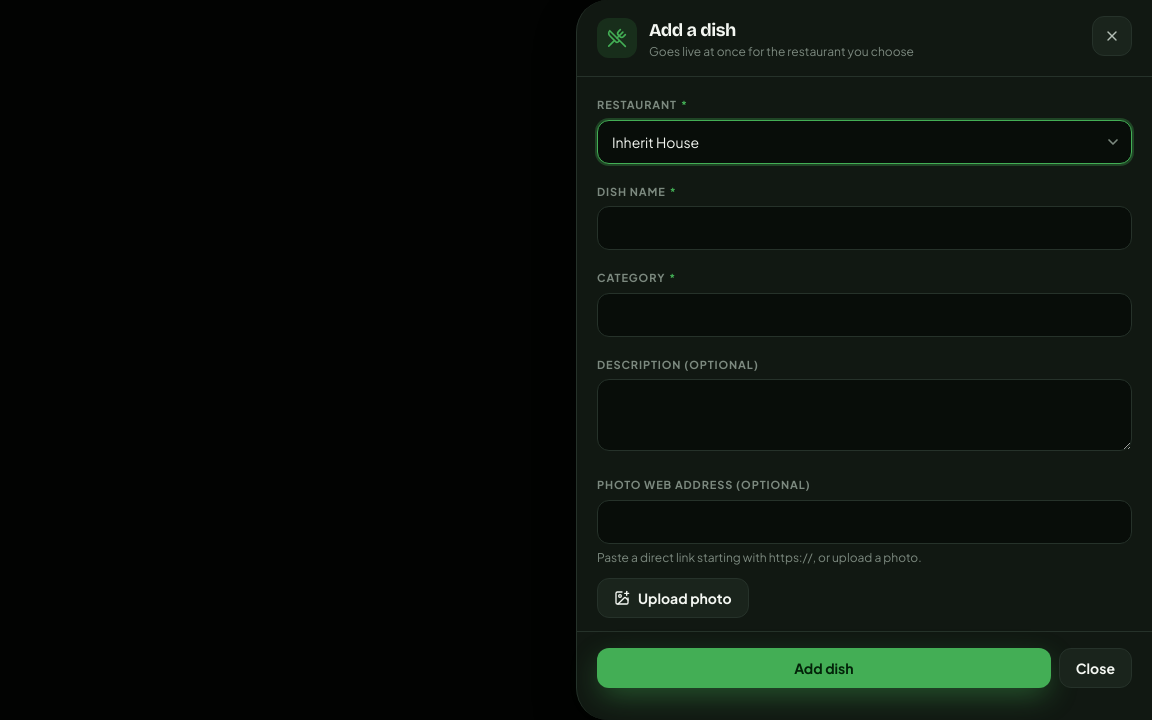
Test: create: which price box? › restaurant without its own rule: asks Settings once and follows a default of Cut from sale
Select "Inherit House" in the dropdown with id "dish-vendor" at (864, 142), box top-left (597, 120), bottom-right (1132, 164)
(page scrolled)
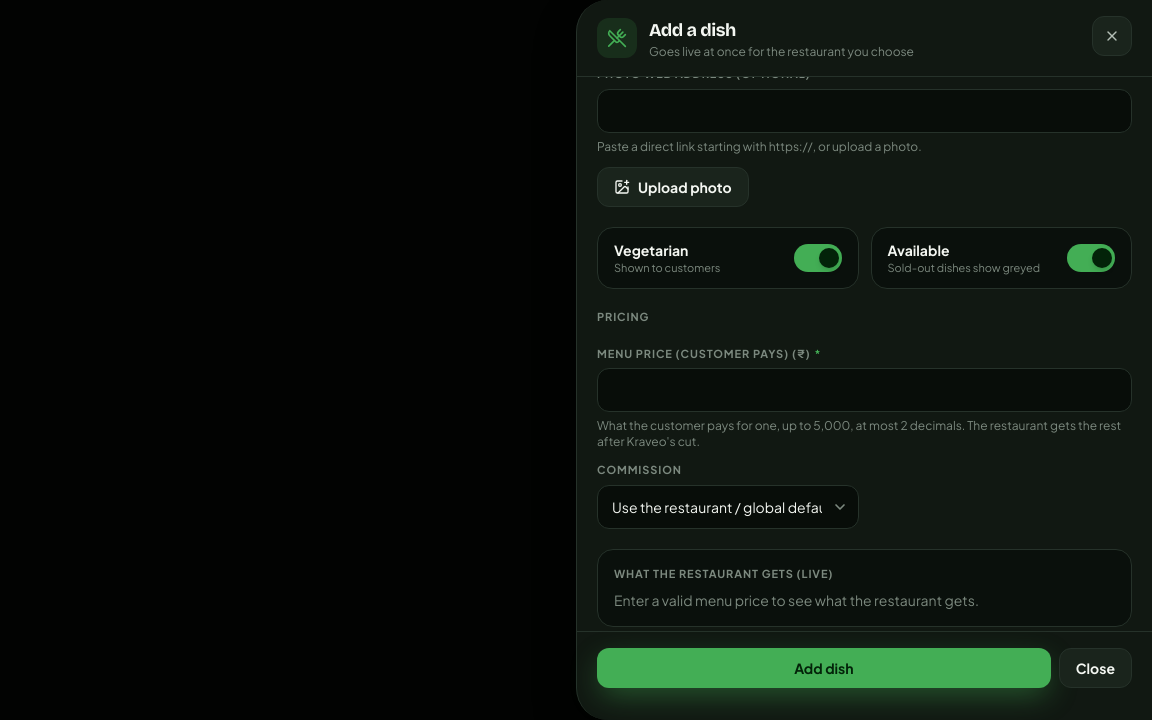
Check: the label "Menu price (customer pays) (₹) *" is shown, box top-left (597, 346), bottom-right (821, 360)
